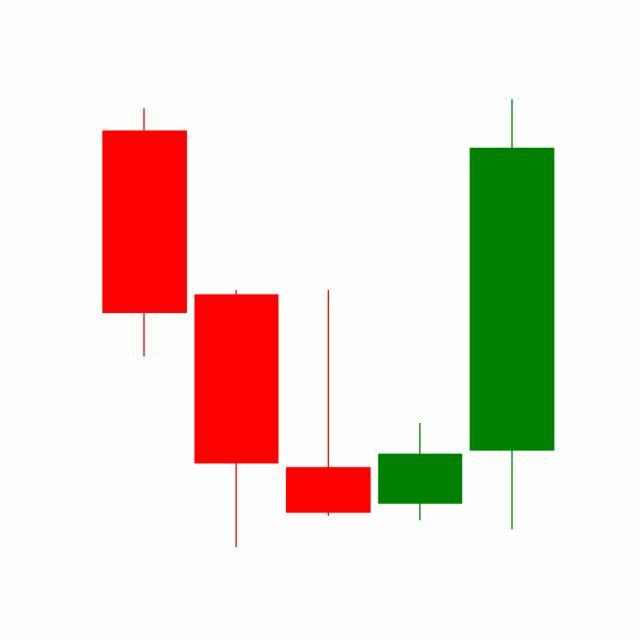Upside-Downside Gap Three Methods: (190, 286, 467, 549)
